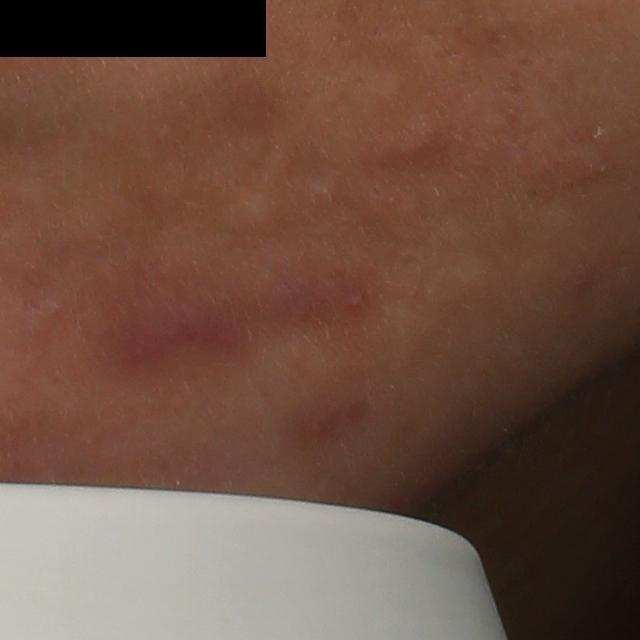hypertrophic_scar: (216, 181, 292, 244), (366, 117, 452, 167)
